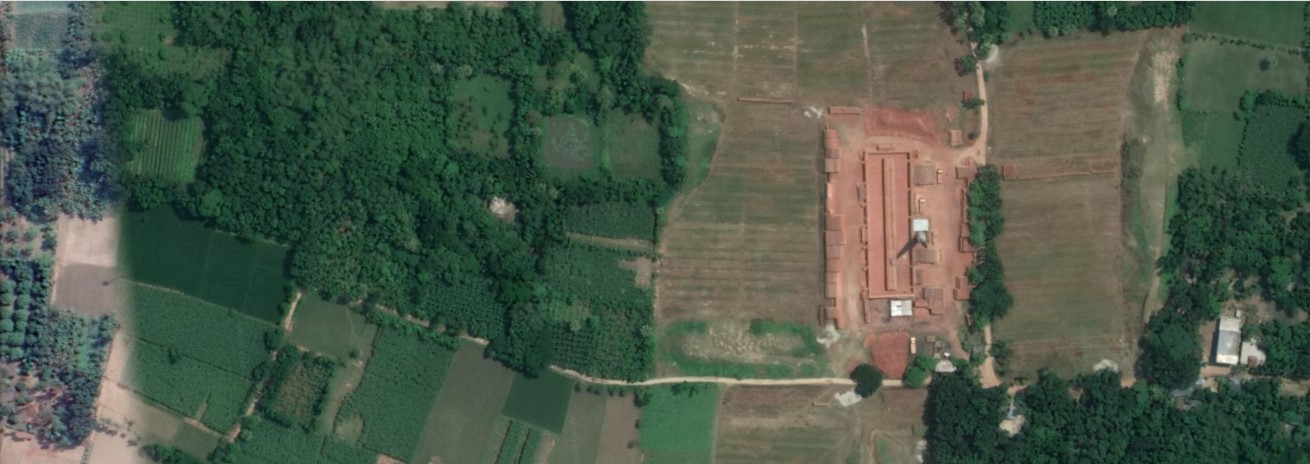kiln: (849, 137, 953, 300)
